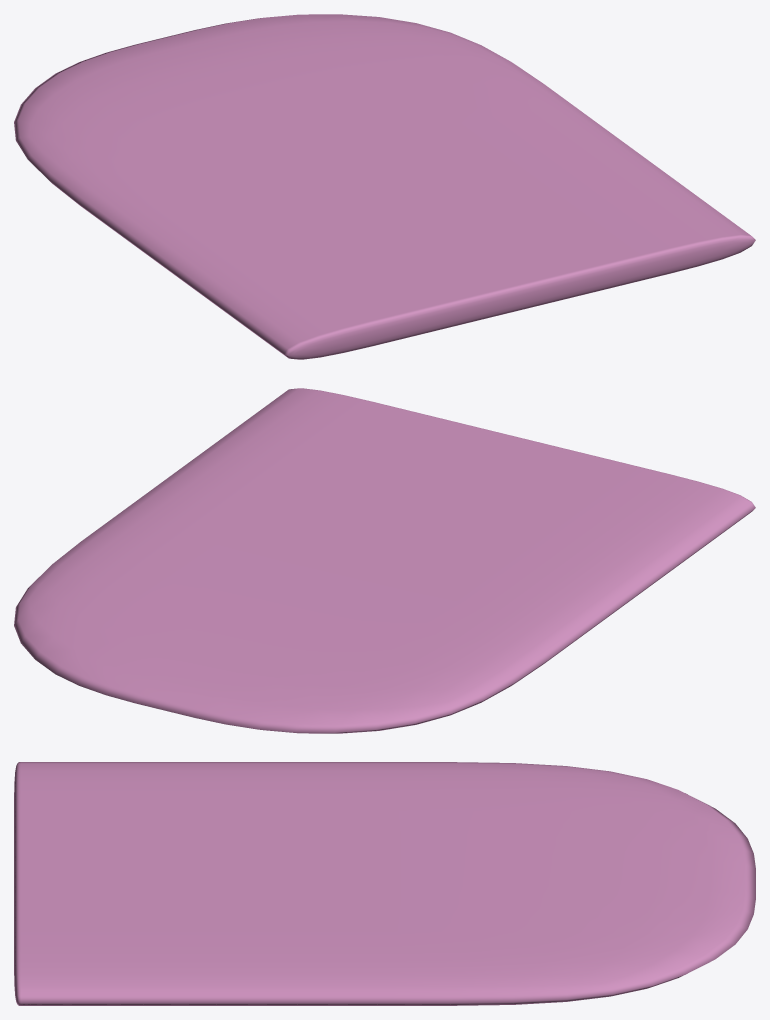
The model's file is CapePieceEnd.fbx.
3 renders of one model, top to bottom at view 1: azimuth 30°, elevation 25°; view 2: azimuth 150°, elevation 25°; view 3: azimuth 270°, elevation 25°, orthographic. The views are drawn at different scales.
Parts seen in each view (by area): view 1: CapePieceEnd; view 2: CapePieceEnd; view 3: CapePieceEnd.
Part boxes in pixels (x1,y1,x2,y2): CapePieceEnd: (14,14,755,359); CapePieceEnd: (14,388,755,733); CapePieceEnd: (14,762,755,1005).
Size of the model in its own units: 0.7774 by 0.0387 by 1.02.
